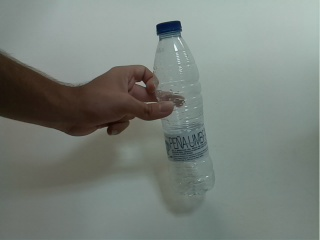botella plastico: (149, 19, 218, 199)
